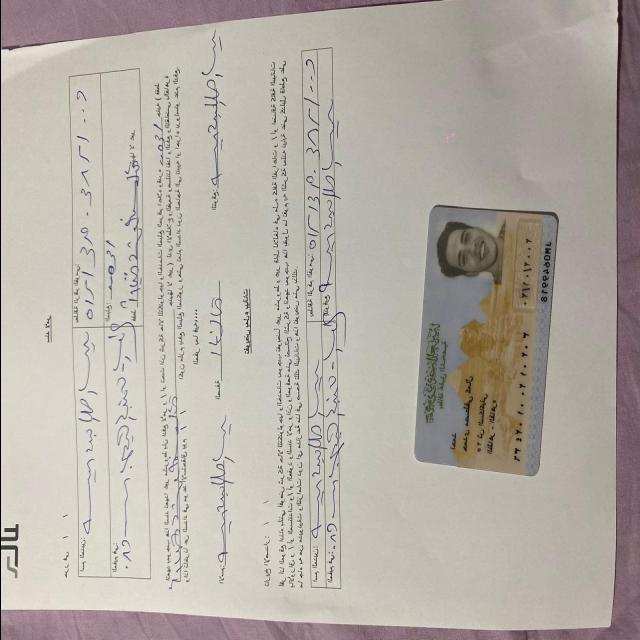id_card: (409, 200, 565, 487)
